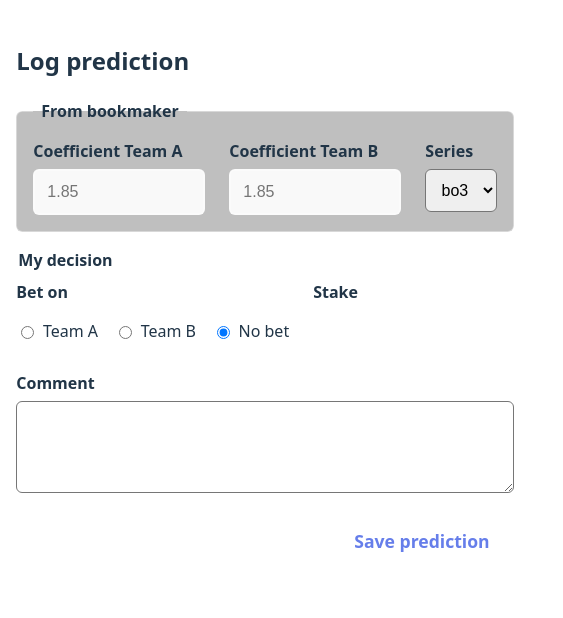
Scenario: PredictionPanel › shows the backend message when a request fails
Step 1. Type "1.5" into the field labelled "Coefficient Team A" → (119, 192), box [33, 169, 205, 215]
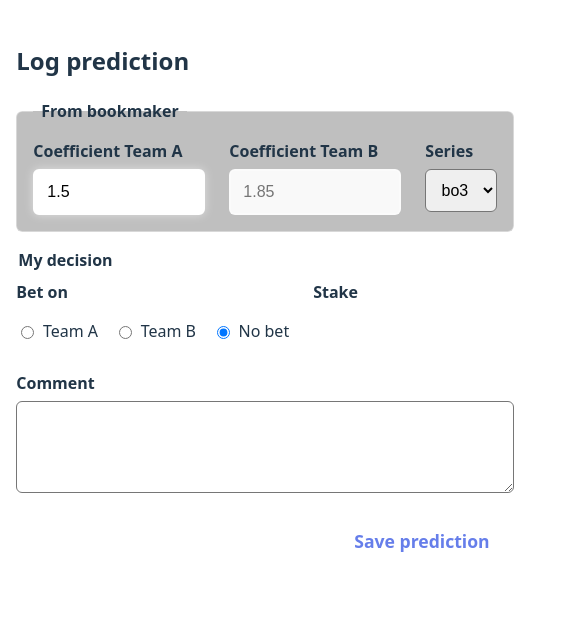
Step 2. Type "2.5" into the field labelled "Coefficient Team B" → (315, 192), box [229, 169, 401, 215]
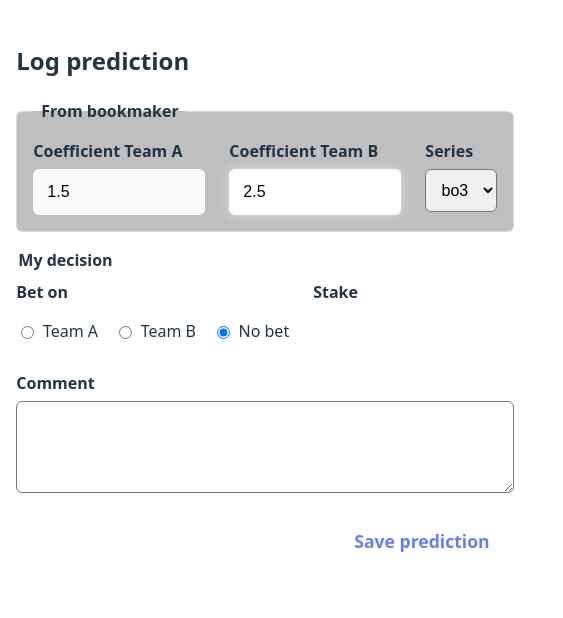
Step 3. Click the button "Save prediction" → (422, 541), box [330, 517, 514, 565]
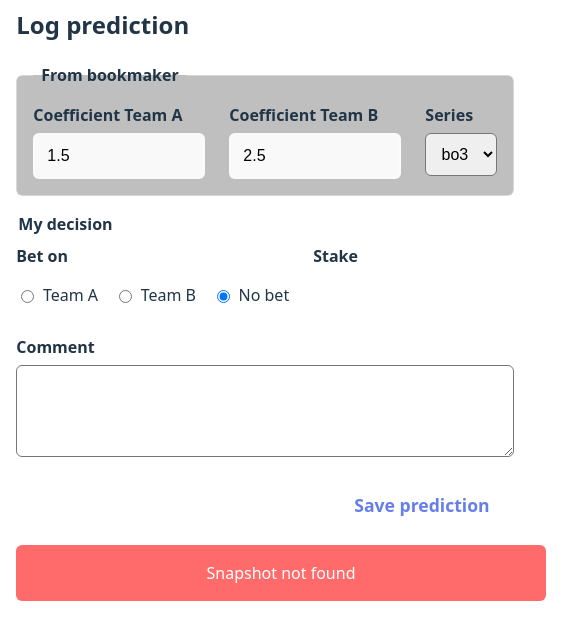
Check: the button "Save prediction" is enabled, box [330, 481, 514, 529]
Check: the text "Snapshot not found" is shown, box [16, 545, 546, 601]
